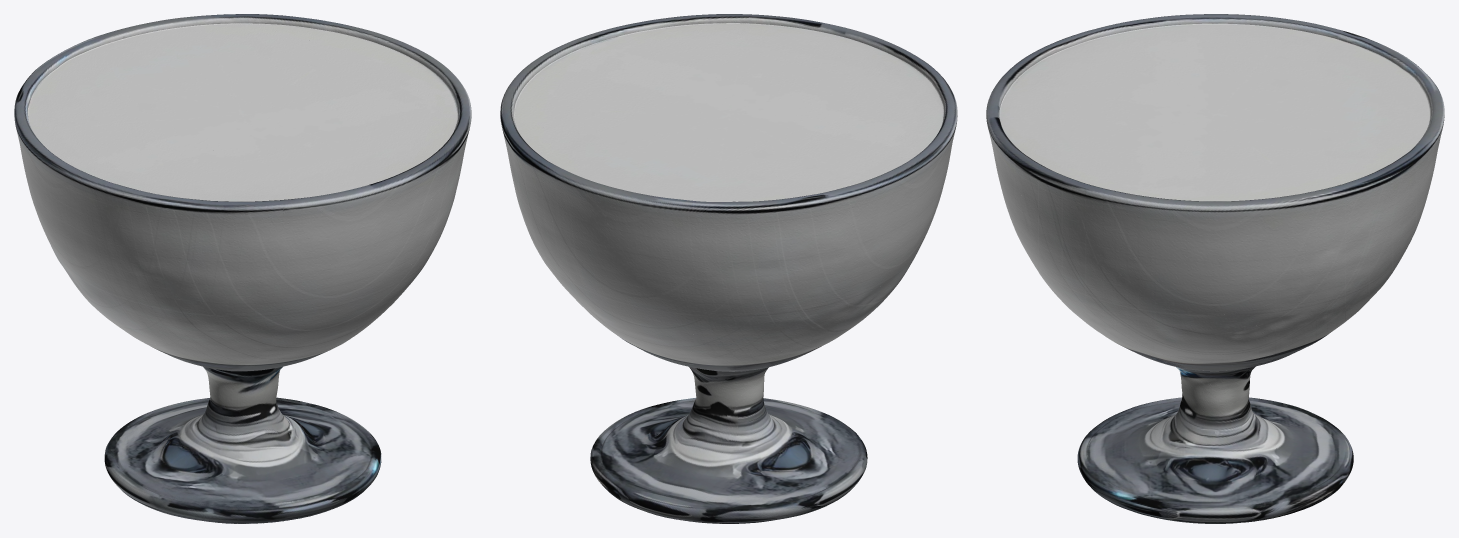
The model's file is glass.glb.
3 renders of one model, left to right at view 1: azimuth 30°, elevation 25°; view 2: azimuth 150°, elevation 25°; view 3: azimuth 270°, elevation 25°, orthographic.
Parts seen in each view (by area): view 1: tripo_node_df76d3ac-817b-42ea-9756-f3e8ca9a11fb; view 2: tripo_node_df76d3ac-817b-42ea-9756-f3e8ca9a11fb; view 3: tripo_node_df76d3ac-817b-42ea-9756-f3e8ca9a11fb.
Boxes of the visible parts, x1,y1,x2,y2 form: tripo_node_df76d3ac-817b-42ea-9756-f3e8ca9a11fb: (14,14,471,523); tripo_node_df76d3ac-817b-42ea-9756-f3e8ca9a11fb: (500,14,957,523); tripo_node_df76d3ac-817b-42ea-9756-f3e8ca9a11fb: (986,14,1444,523).
Size of the model in its own units: 0.9997 by 0.8648 by 1.
Materials: 1 (1 with a texture image).
